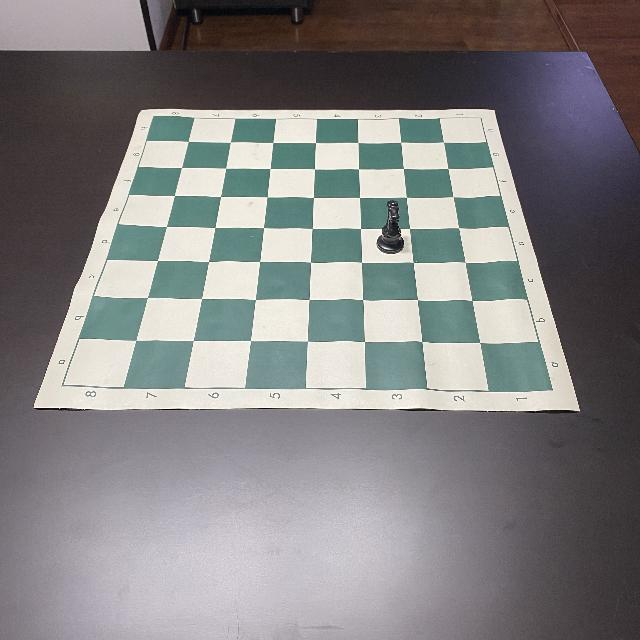black-knight: (376, 199, 404, 255)
board: (33, 108, 580, 414)
